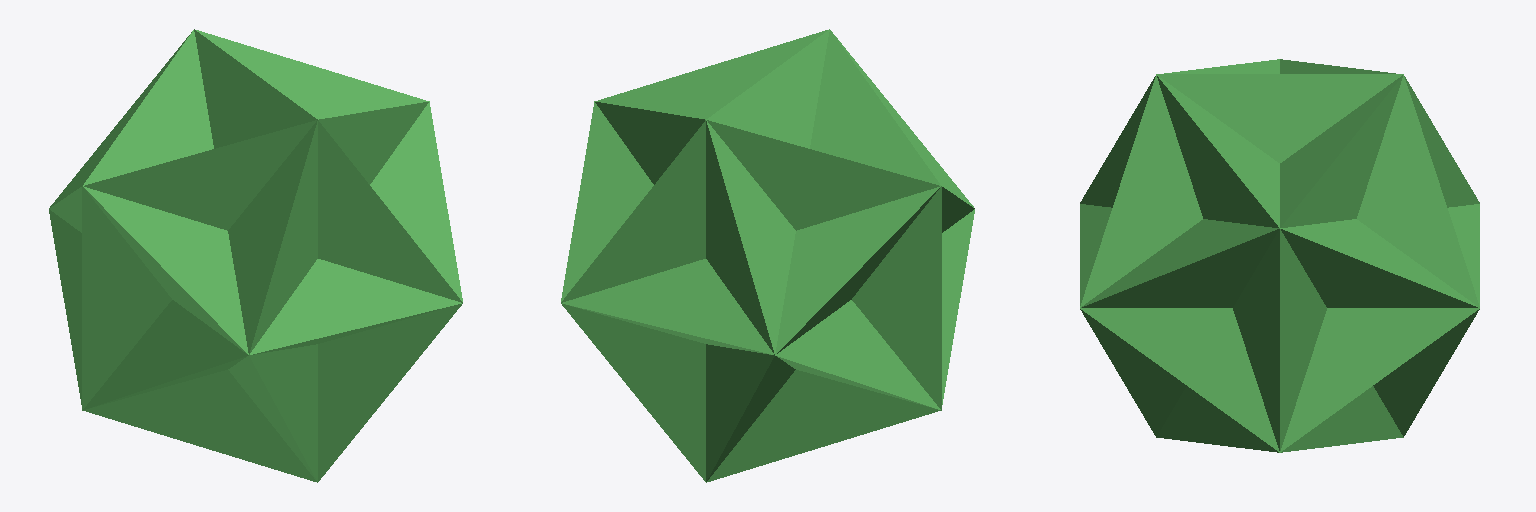
File: GreatDodecahedron.obj
3 renders of one model, left to right at view 1: azimuth 30°, elevation 25°; view 2: azimuth 150°, elevation 25°; view 3: azimuth 270°, elevation 25°, orthographic.
Bounding box in the file's own units: 1.62 × 1.62 × 1.62.